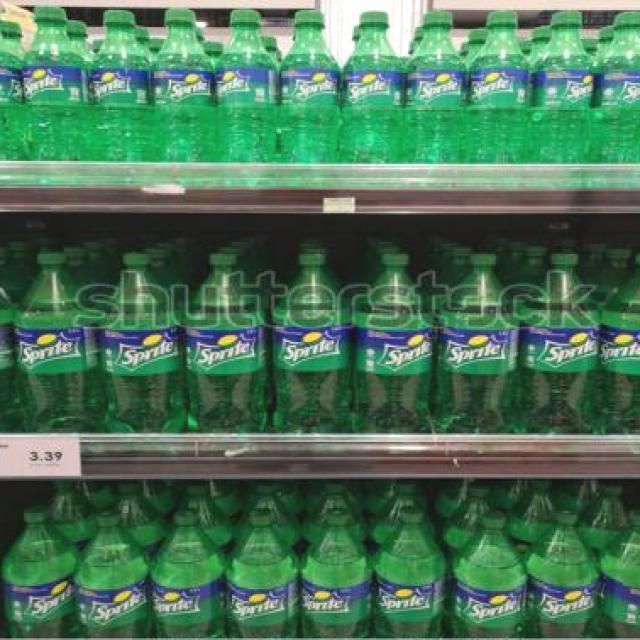Drinks: (12, 251, 102, 434), (435, 254, 522, 435), (101, 252, 185, 434), (185, 252, 268, 433), (270, 252, 353, 433), (352, 253, 434, 434), (520, 252, 600, 435), (448, 508, 528, 640), (24, 4, 90, 162), (0, 506, 76, 638), (150, 508, 226, 640), (340, 10, 405, 164), (374, 507, 449, 639), (76, 508, 151, 640), (278, 10, 342, 164), (532, 11, 596, 165), (298, 507, 372, 639), (469, 10, 532, 164), (225, 509, 300, 638), (215, 9, 278, 162), (406, 10, 468, 164), (528, 508, 600, 640), (90, 9, 152, 162), (152, 9, 214, 162), (599, 252, 640, 435), (594, 10, 640, 164), (601, 508, 640, 640), (0, 5, 24, 161)
